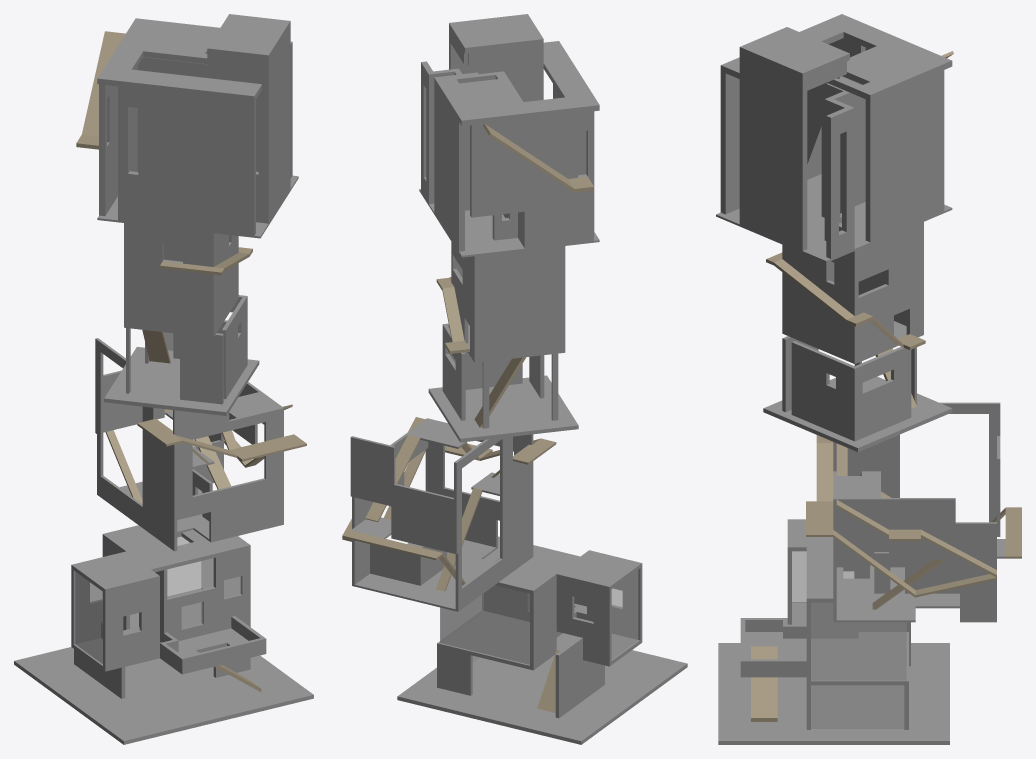
Rendered from taihushi.glb.
3 renders of one model, left to right at view 1: azimuth 30°, elevation 25°; view 2: azimuth 150°, elevation 25°; view 3: azimuth 270°, elevation 25°, orthographic. The views are drawn at different scales.
Parts seen in each view (by area): view 1: 04, 01, 02, 03; view 2: 04, 01, 02, 03; view 3: 04, 01, 03, 02.
Boxes of the visible parts, x1,y1,x2,y2 form: 04: [76, 14, 298, 238]; 01: [14, 525, 313, 744]; 02: [95, 332, 306, 551]; 03: [104, 223, 259, 415]; 04: [419, 14, 599, 257]; 01: [397, 536, 687, 744]; 02: [342, 417, 556, 611]; 03: [428, 242, 578, 442]; 04: [716, 14, 953, 262]; 01: [718, 519, 949, 744]; 03: [763, 222, 952, 451]; 02: [806, 402, 1021, 622].
Size of the model in its own units: 127 by 337 by 137.
